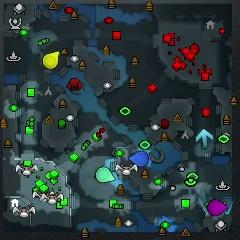p1: (128, 150, 149, 167)
p2: (95, 166, 116, 182)
p3: (208, 199, 228, 216)
p4: (43, 52, 59, 68)
x3: (197, 128, 213, 148)
